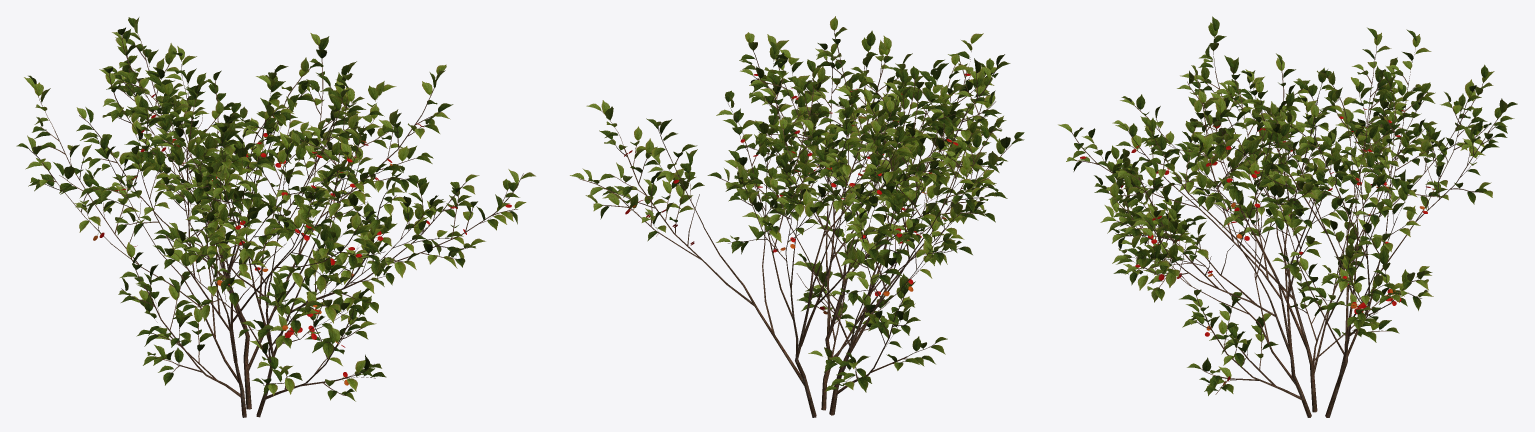
Rendered from Prunus tomentosa002_LOW.FBX.
The picture shows the model from 3 angles, left to right: view 1: azimuth 30°, elevation 25°; view 2: azimuth 150°, elevation 25°; view 3: azimuth 270°, elevation 25°; orthographic projection. The views are drawn at different scales.
Visible parts, largest first — view 1: Prunus tomentosa002_LOW; view 2: Prunus tomentosa002_LOW; view 3: Prunus tomentosa002_LOW.
Part boxes in pixels (x1,y1,x2,y2): Prunus tomentosa002_LOW: [16, 17, 535, 417]; Prunus tomentosa002_LOW: [570, 16, 1024, 417]; Prunus tomentosa002_LOW: [1058, 16, 1517, 417].
Size of the model in its own units: 1844 by 1578 by 1893.
